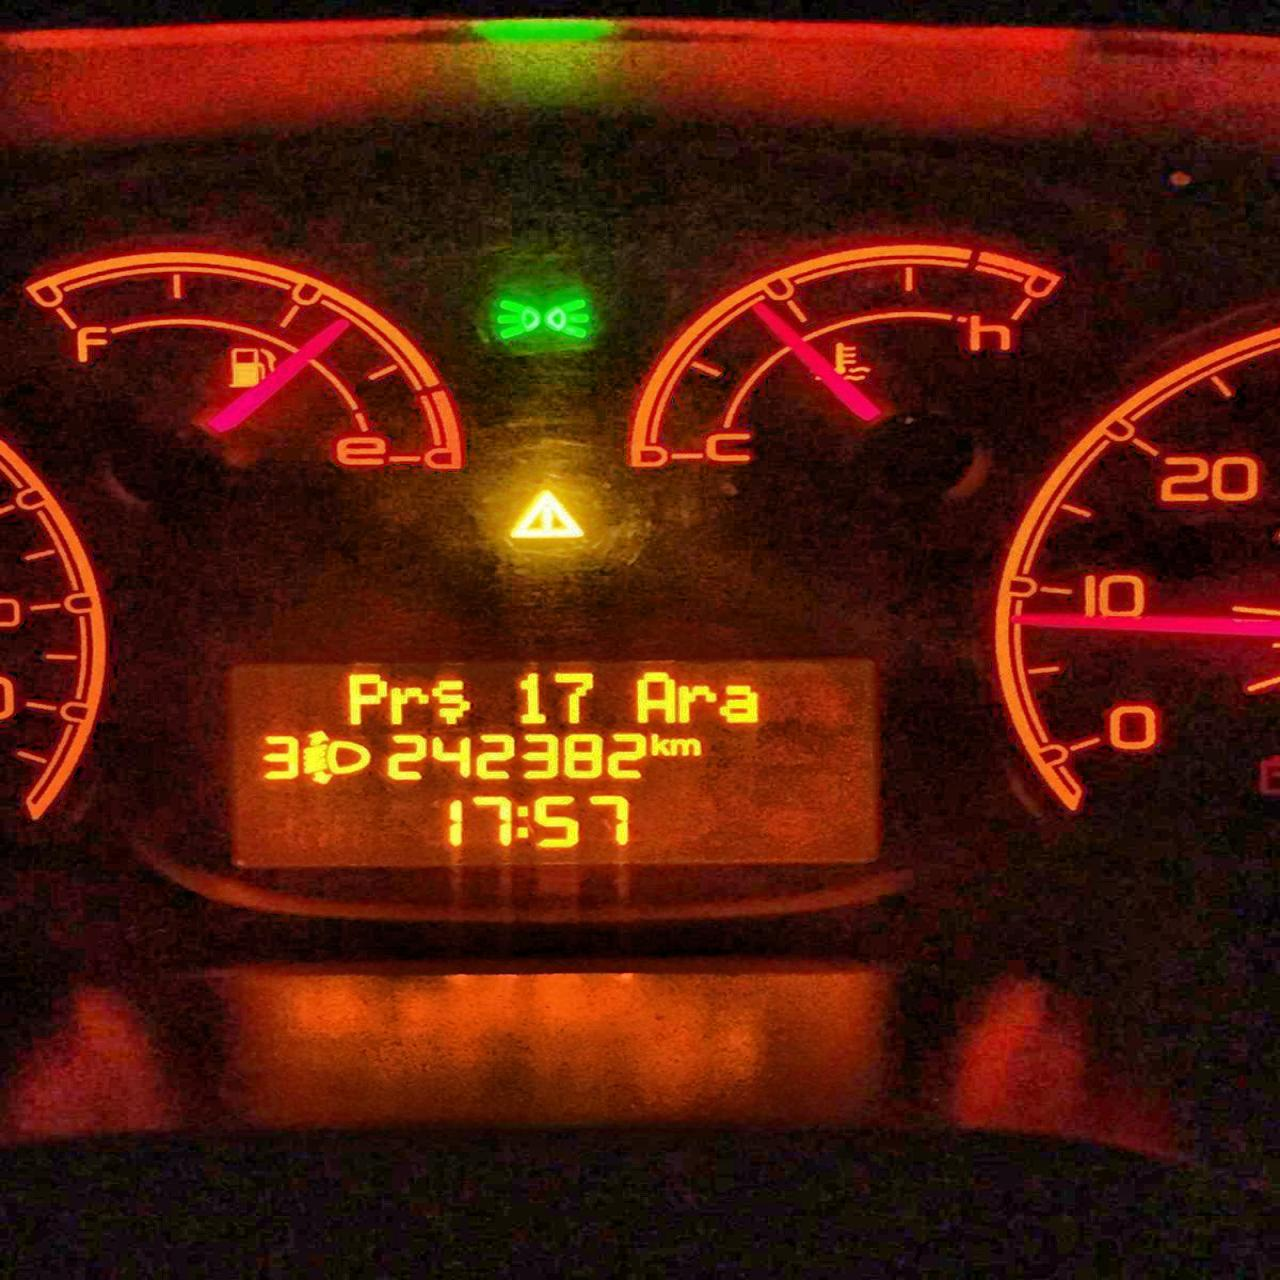1: (517, 669, 549, 724), (444, 796, 468, 851)
2: (475, 730, 516, 779), (606, 730, 647, 779), (387, 731, 427, 782)
3: (522, 729, 560, 781), (263, 731, 298, 782)
4: (430, 733, 470, 779)
5: (532, 794, 581, 849)
7: (586, 794, 632, 850), (554, 669, 598, 724), (470, 794, 512, 849)
8: (564, 731, 604, 779)
X: (635, 672, 676, 724), (347, 672, 384, 727), (430, 676, 470, 724), (675, 680, 716, 726), (717, 682, 758, 723), (388, 682, 427, 726), (669, 736, 702, 760), (515, 802, 530, 839), (651, 730, 668, 757)
odometer: (210, 639, 893, 873)
